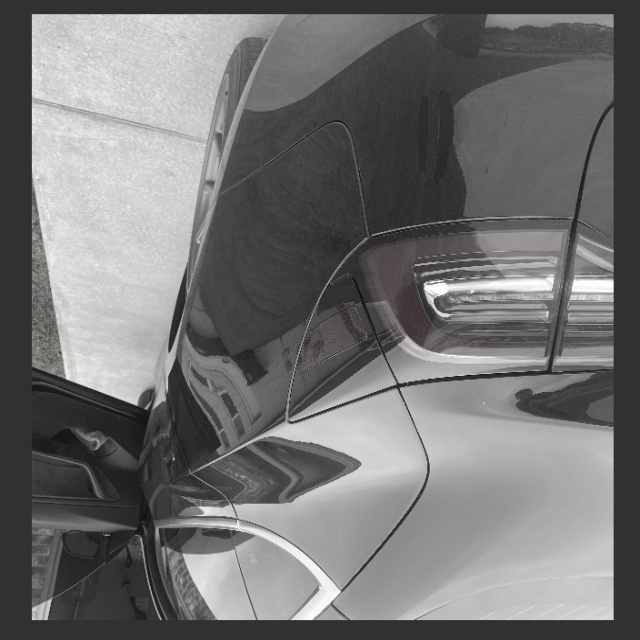reflector: (300, 304, 367, 373)
